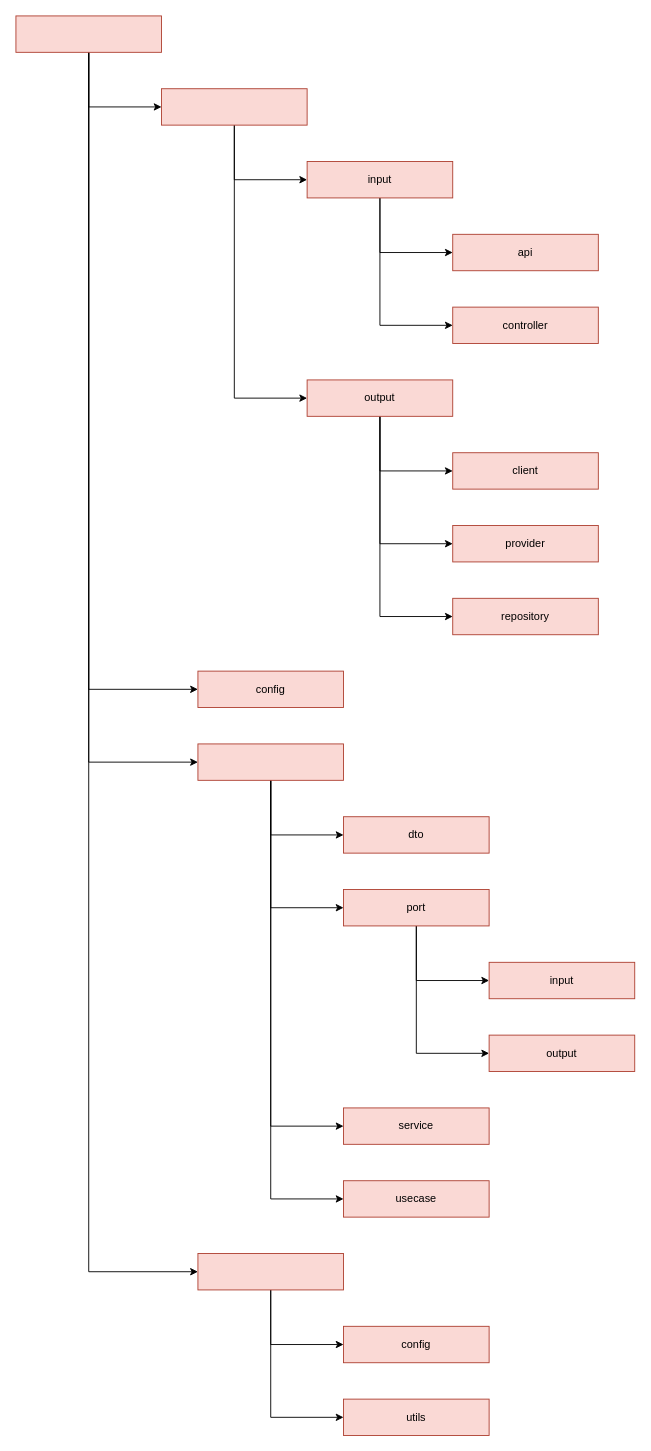
This 651x1451 diagram has some shape labels left out. The shapes that lost their labels are listed below. From the top down, each one's centre as x and y in pixels, then its label:
At (x=88, y=33): "br.com.projeto".
At (x=234, y=106): "adapter".
At (x=270, y=761): "core".
At (x=270, y=1271): "infra".
